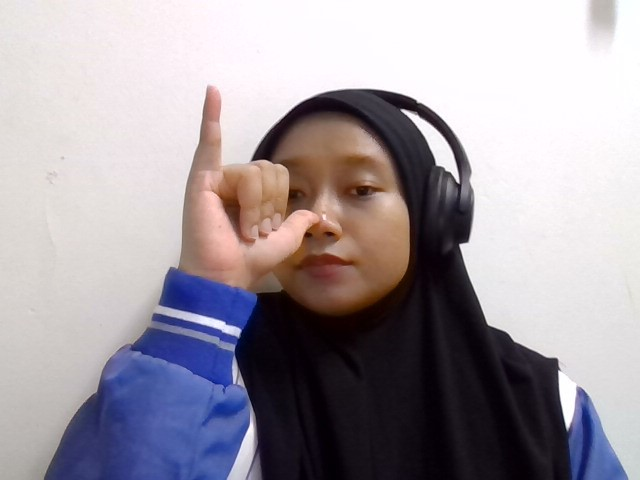BadakSumbu: (180, 85, 359, 275)
